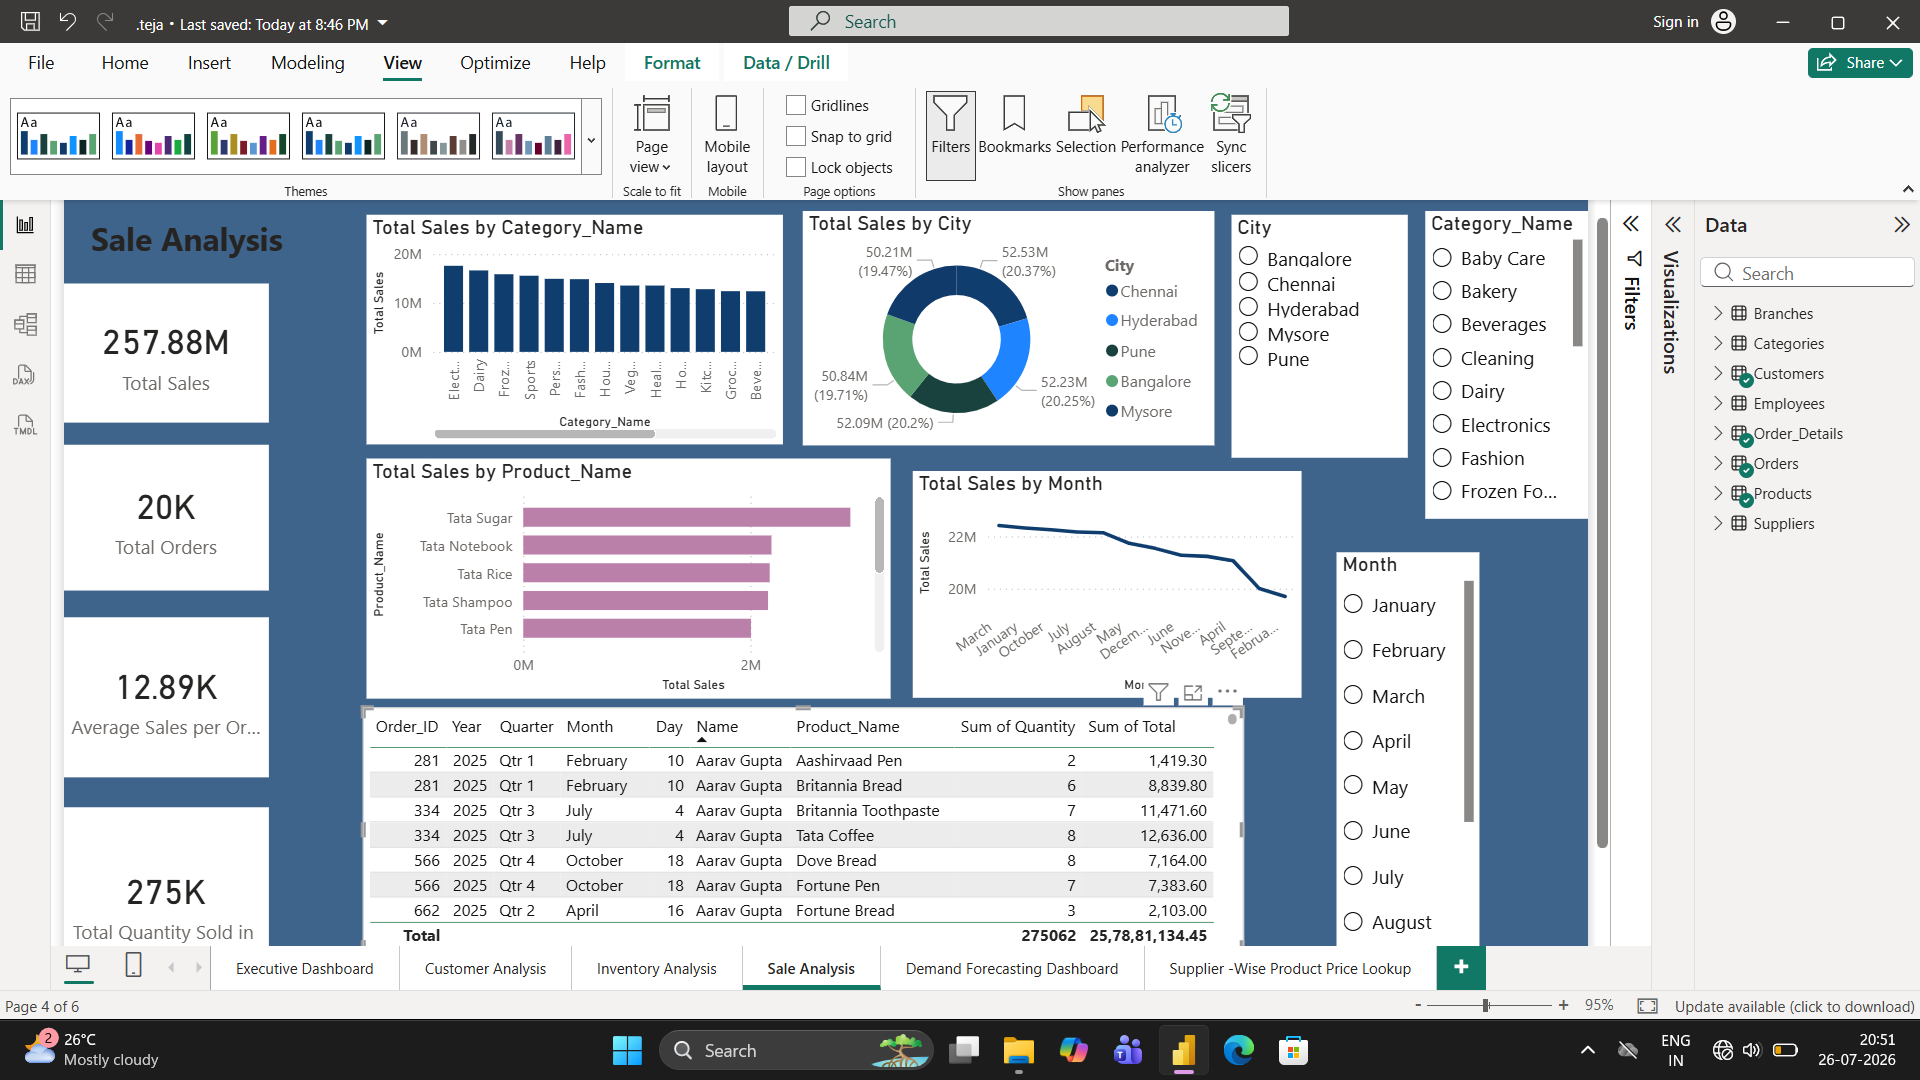

The dashboard page shown, as its layout file describes it:
{"tool":"powerbi","page":{"name":"Sale Analysis","canvas":[1280,720],"ordinal":3},"visuals":[{"type":"card","fields":{"Values":["Order_Details.Total Sales"]},"box":[0,77.5,171.7,116.8],"z":0},{"type":"card","fields":{"Values":["Order_Details.Total Orders"]},"box":[0,213.4,171.7,122.8],"z":1000},{"type":"card","fields":{"Values":["Orders.Average Sales per Order"]},"box":[0,357.6,171.7,134.7],"z":2000},{"type":"card","fields":{"Values":["Order_Details.Total Quantity Sold"]},"box":[0,517.3,171.7,159.7],"z":3000},{"type":"lineChart","fields":{"Category":["Orders.Month"],"Y":["Order_Details.Total Sales"]},"box":[712.8,234.8,326.6,190.7],"z":4000},{"type":"clusteredColumnChart","fields":{"Category":["Categories.Category_Name"],"Y":["Order_Details.Total Sales"]},"box":[253.9,20.3,349.3,193.1],"z":5000},{"type":"clusteredBarChart","fields":{"Category":["Products.Product_Name"],"Y":["Order_Details.Total Sales"]},"box":[253.9,224.1,439.9,201.5],"z":6000},{"type":"donutChart","fields":{"Category":["Branches.City"],"Y":["Order_Details.Total Sales"]},"box":[619.9,16.7,345.7,196.7],"z":7000},{"type":"tableEx","fields":{"Values":["Order_Details.Order_ID","Orders.Order_Date.Variation.Date Hierarchy.Year","Orders.Order_Date.Variation.Date Hierarchy.Quarter","Orders.Order_Date.Variation.Date Hierarchy.Month","Orders.Order_Date.Variation.Date Hierarchy.Day","Customers.Name","Products.Product_Name","Sum(Order_Details.Quantity)","Sum(Order_Details.Total)"]},"box":[250.8,433.4,739.8,205.7],"z":8000},{"type":"listSlicer","fields":{"Values":["Orders.Month"]},"box":[1068.1,302.8,120.4,336.2],"z":9000},{"type":"listSlicer","fields":{"Values":["Branches.City"]},"box":[979.8,20.3,147.8,203.8],"z":10000},{"type":"listSlicer","fields":{"Values":["Categories.Category_Name"]},"box":[1143.2,16.7,137.1,258.7],"z":11000},{"type":"textbox","box":[0,16.7,206.2,47.7],"z":12000}]}

Visuals, with their boxes on the page's 1280x720 design canvas (x1, y1, x2, y2). These are canvas units, not pixel positions in the 1920x1080 screenshot, which may show the page scaled, cropped or inside an application window:
card - Order_Details.Total Sales: pyautogui.locateOnScreen(0, 78, 172, 194)
card - Order_Details.Total Orders: pyautogui.locateOnScreen(0, 213, 172, 336)
card - Orders.Average Sales per Order: pyautogui.locateOnScreen(0, 358, 172, 492)
card - Order_Details.Total Quantity Sold: pyautogui.locateOnScreen(0, 517, 172, 677)
lineChart - Orders.Month x Order_Details.Total Sales: pyautogui.locateOnScreen(713, 235, 1039, 426)
clusteredColumnChart - Categories.Category_Name x Order_Details.Total Sales: pyautogui.locateOnScreen(254, 20, 603, 213)
clusteredBarChart - Products.Product_Name x Order_Details.Total Sales: pyautogui.locateOnScreen(254, 224, 694, 426)
donutChart - Branches.City x Order_Details.Total Sales: pyautogui.locateOnScreen(620, 17, 966, 213)
tableEx - Order_Details.Order_ID x Orders.Order_Date.Variation.Date Hierarchy.Year: pyautogui.locateOnScreen(251, 433, 991, 639)
listSlicer - Orders.Month: pyautogui.locateOnScreen(1068, 303, 1188, 639)
listSlicer - Branches.City: pyautogui.locateOnScreen(980, 20, 1128, 224)
listSlicer - Categories.Category_Name: pyautogui.locateOnScreen(1143, 17, 1280, 275)
textbox: pyautogui.locateOnScreen(0, 17, 206, 64)
